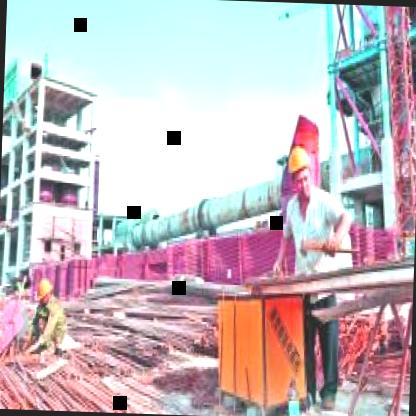helmet: (286, 141, 316, 198), (36, 276, 54, 308)
